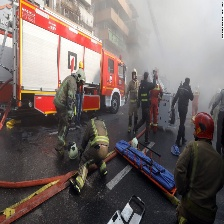smoke: (125, 1, 224, 73)
